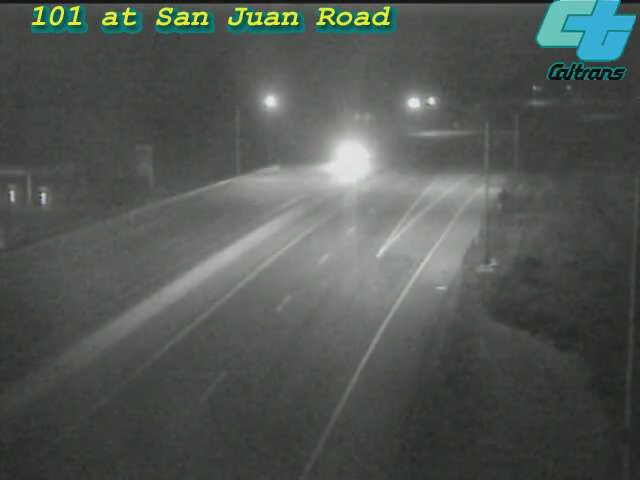vehicle: (324, 131, 374, 181)
